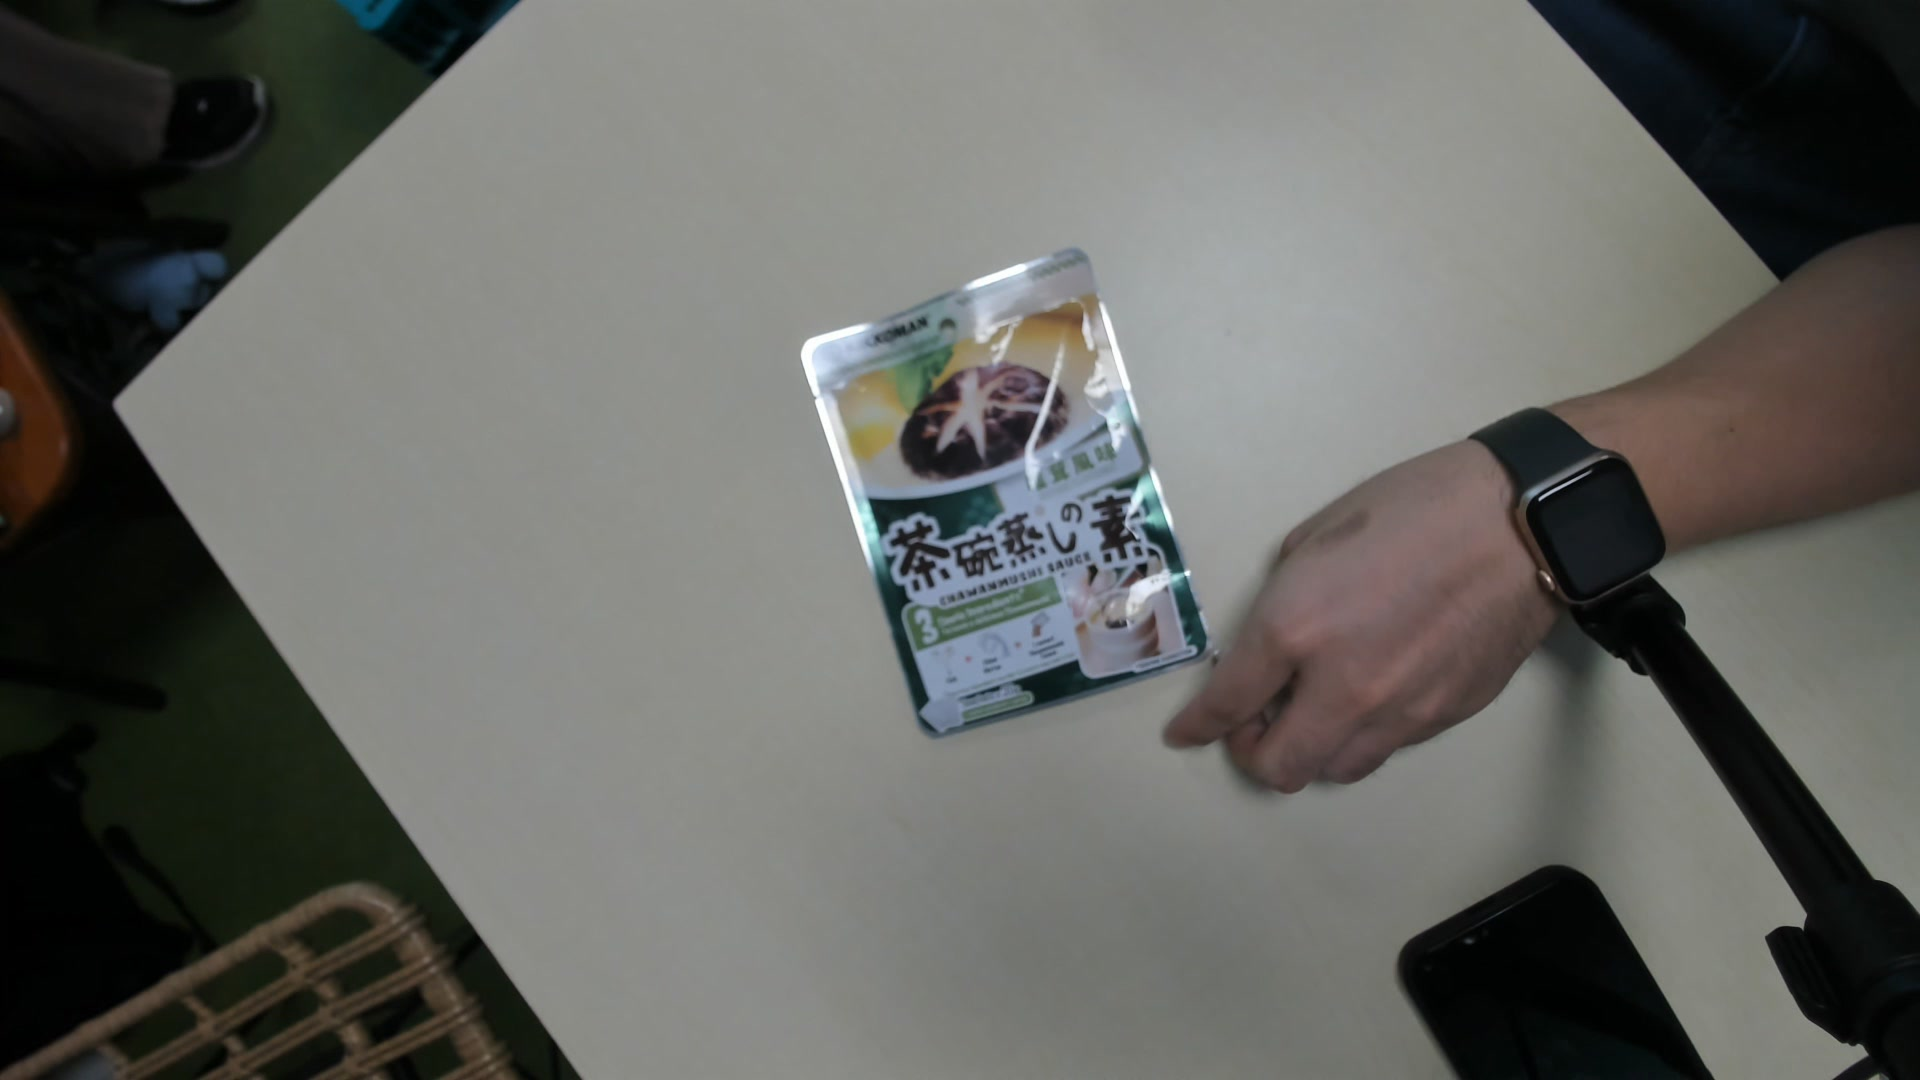OtherSauceDressing_0-99g_NonHalal_NonHealthy: (804, 249, 1209, 738)
